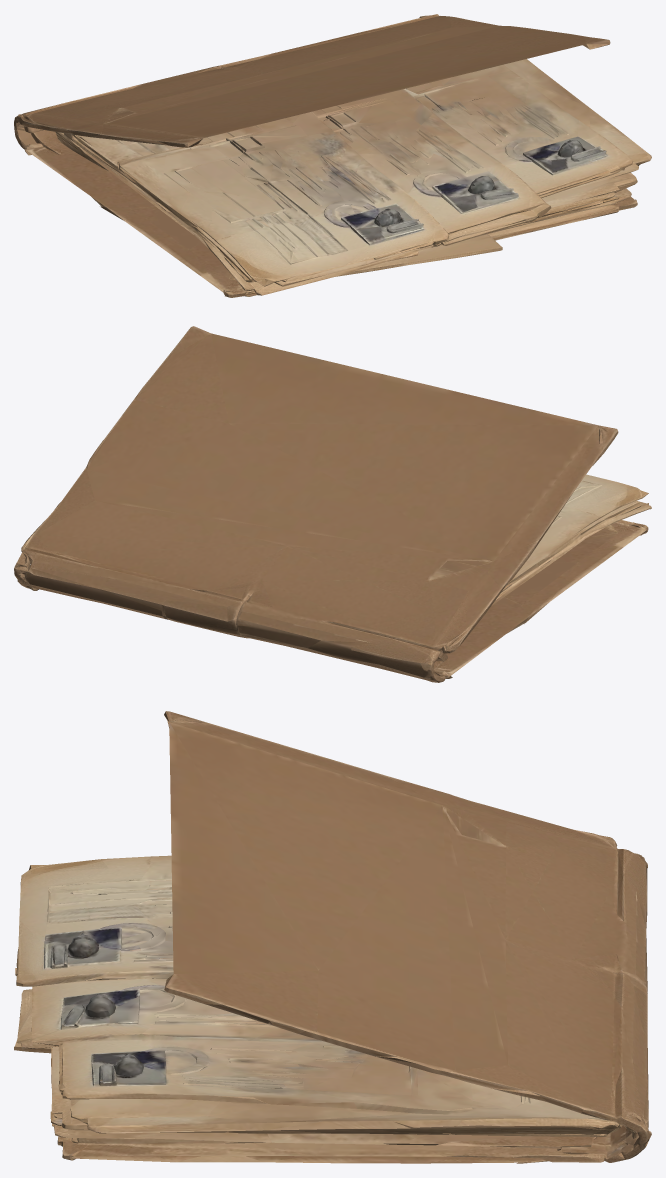
File: cartella.glb
The picture shows the model from 3 angles, top to bottom: view 1: azimuth 30°, elevation 25°; view 2: azimuth 150°, elevation 25°; view 3: azimuth 270°, elevation 25°; orthographic projection. The views are drawn at different scales.
Visible parts, largest first — view 1: Mesh_0; view 2: Mesh_0; view 3: Mesh_0.
Boxes of the visible parts, bbox=[...] form: Mesh_0: bbox=[14, 14, 651, 297]; Mesh_0: bbox=[14, 326, 651, 682]; Mesh_0: bbox=[14, 711, 651, 1163].
Bounding box in the file's own units: 1.9 × 0.5551 × 1.77.
Materials: 1 (1 with a texture image).
